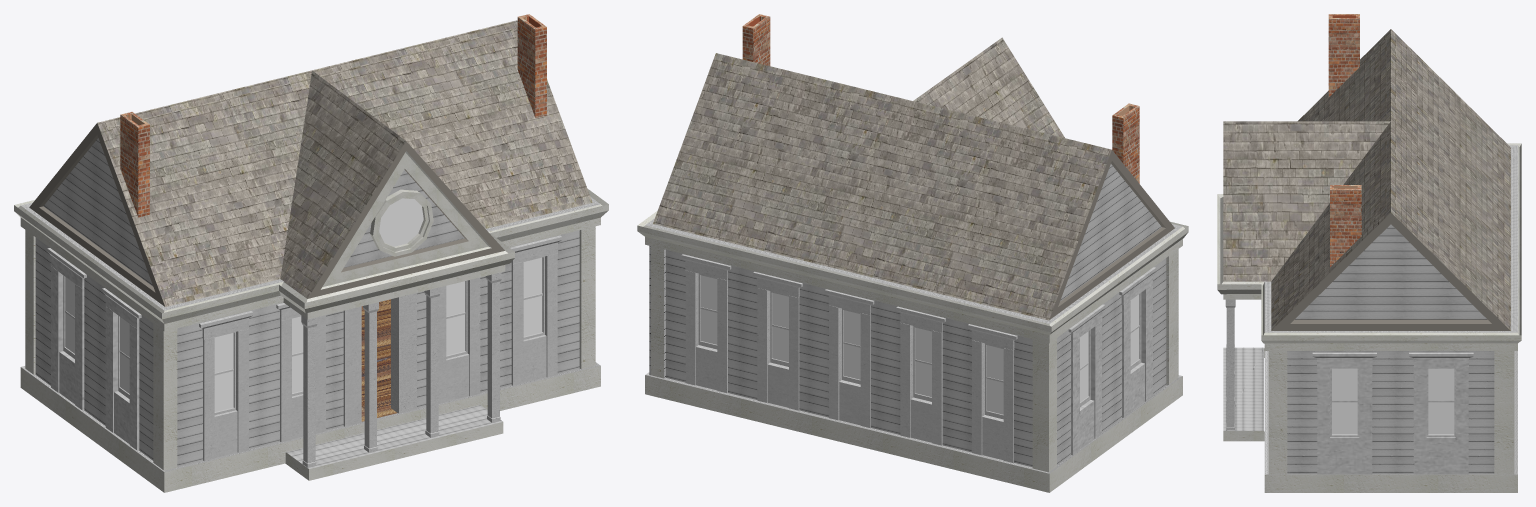
The model's file is whouse3.fbx.
3 views of the same model, side by side, from view 1: azimuth 30°, elevation 25°; view 2: azimuth 150°, elevation 25°; view 3: azimuth 270°, elevation 25° (orthographic). The views are drawn at different scales.
Visible parts, largest first — view 1: Plane.007; view 2: Plane.007; view 3: Plane.007.
Part boxes in pixels (bbox=[...]): Plane.007: bbox=[14, 14, 608, 492]; Plane.007: bbox=[637, 14, 1188, 492]; Plane.007: bbox=[1217, 14, 1521, 492].
Bounding box in the file's own units: 11.5 × 8.28 × 7.71.
8 materials, 8 textured.
